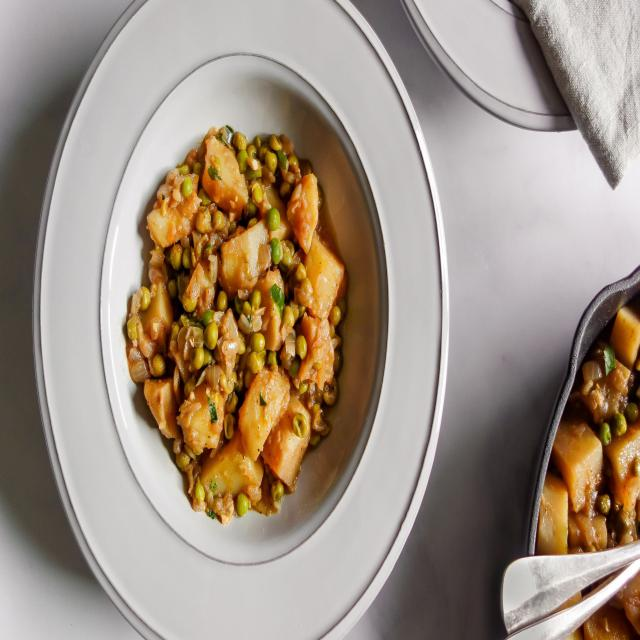Aloo Matar: (131, 153, 339, 508), (536, 296, 640, 633)
